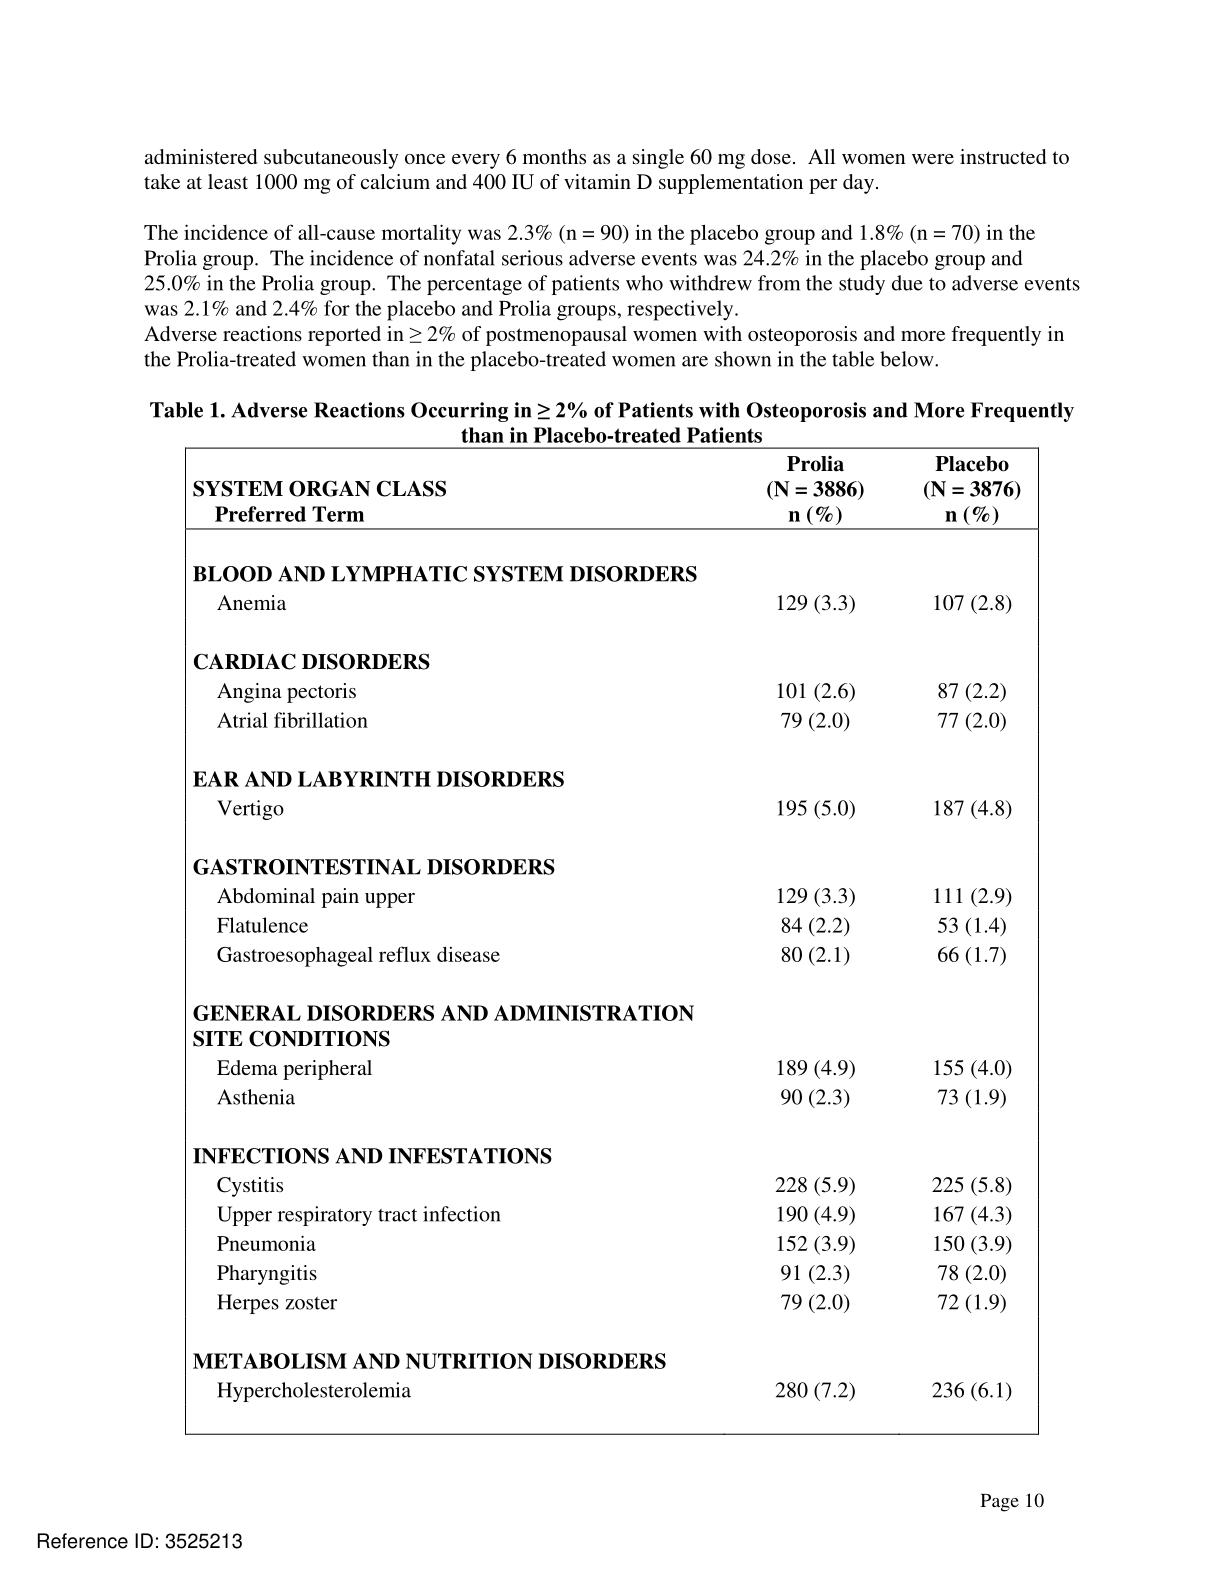partial_lined: (183, 446, 1040, 1436)
